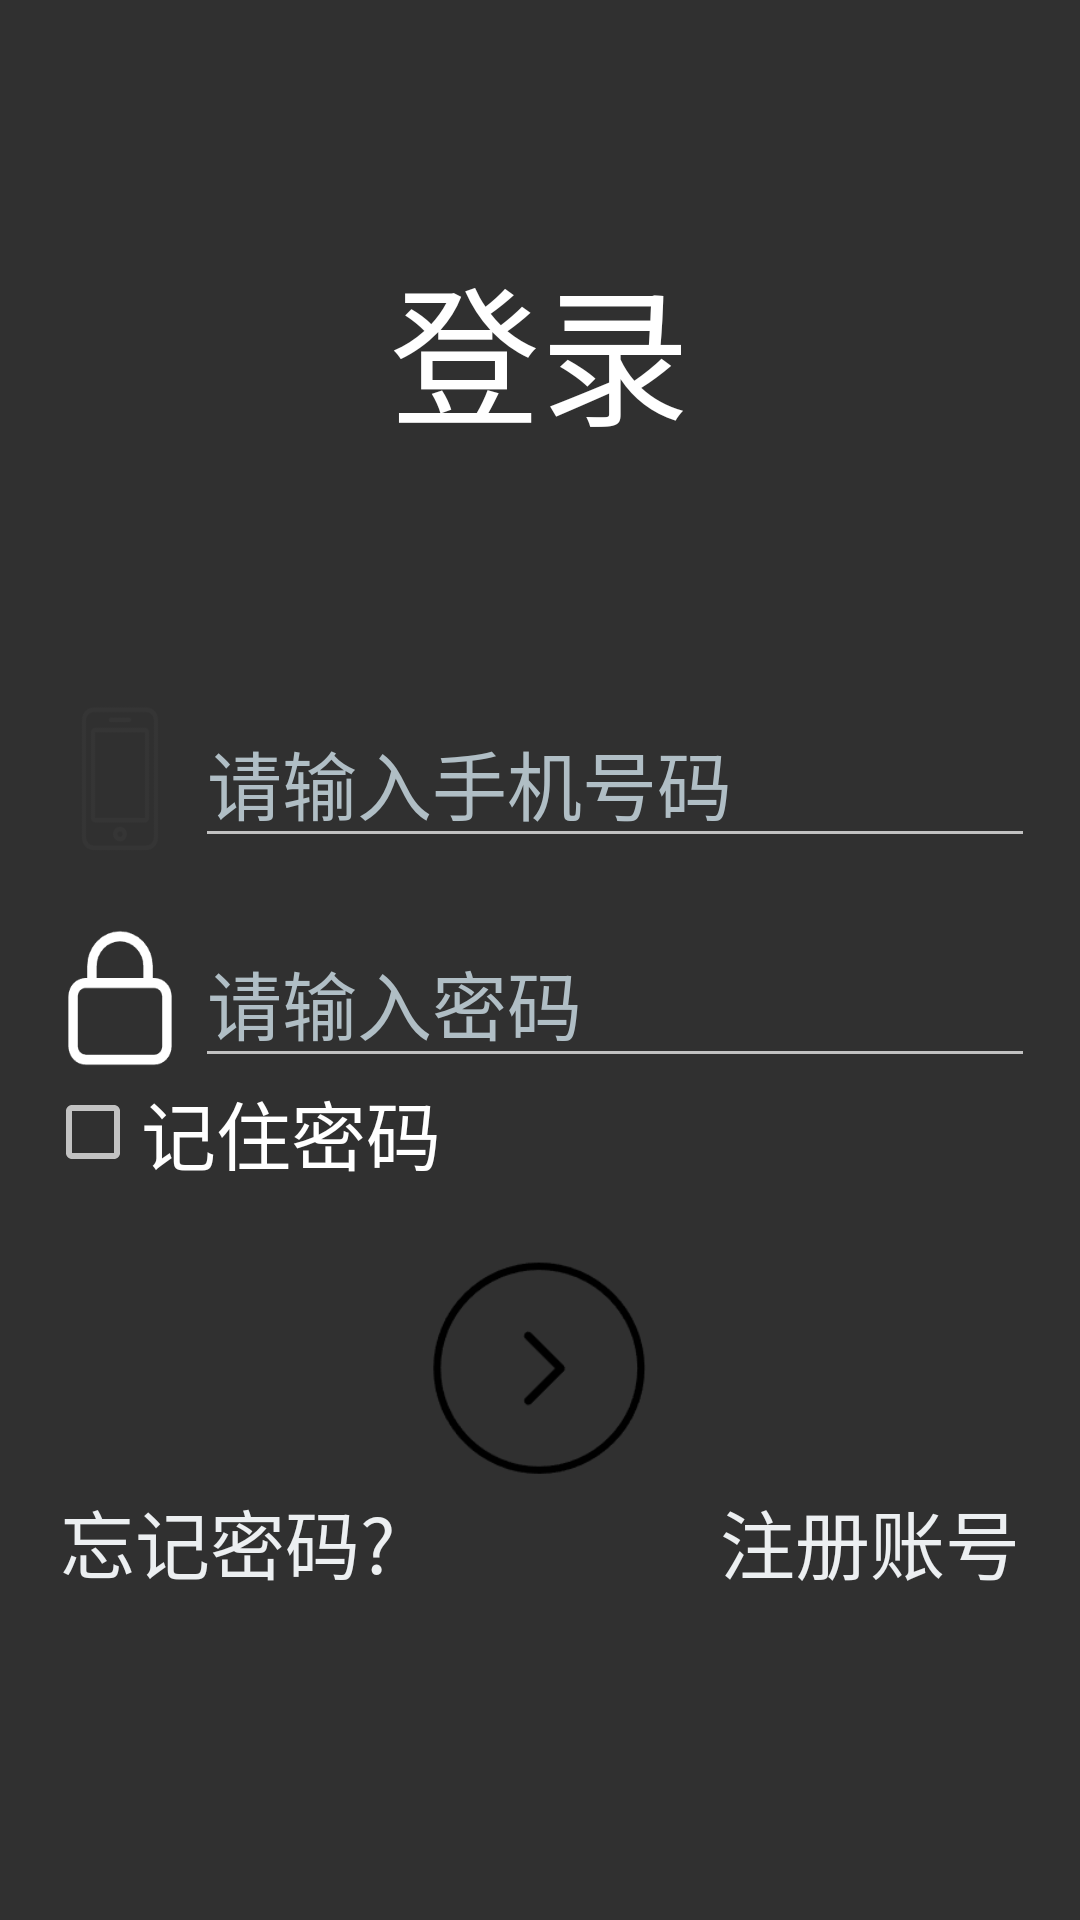

Where to tap for icons on this 1080×1920 app screen, as [x,y]:
password: [120,998]
queren: [538,1368]
